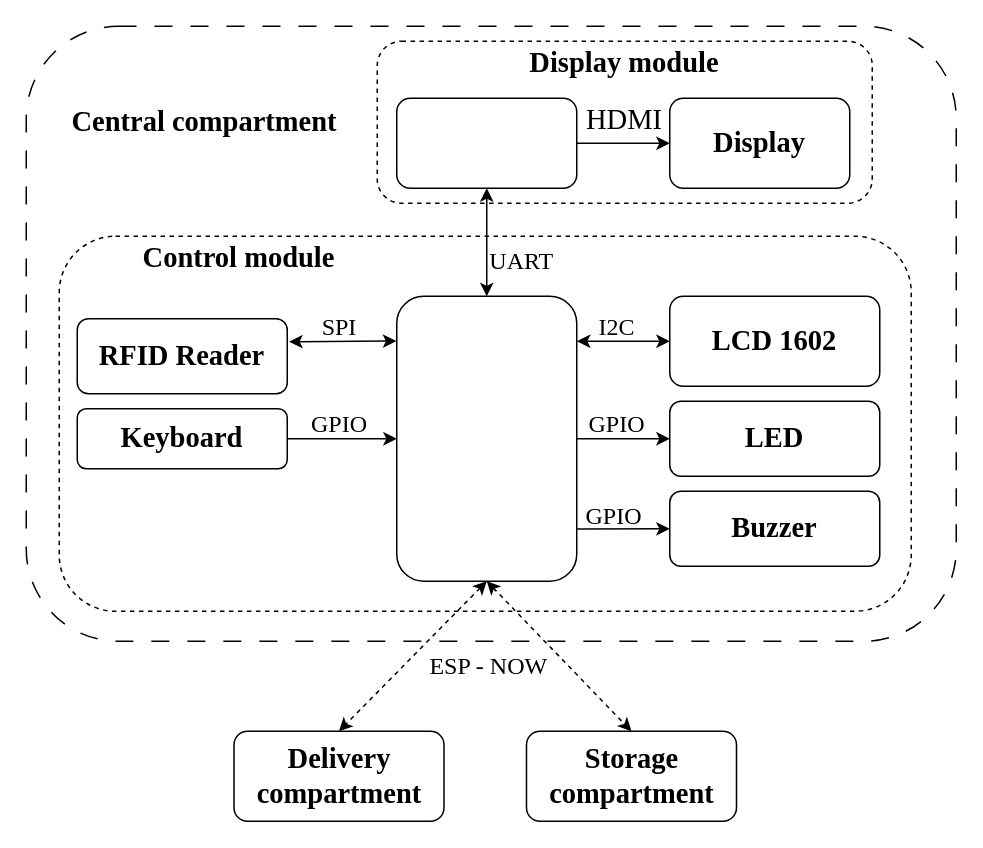
This 983x848 diagram has some shape labels left out. Each missing label, with the centre of its shape:
ESP32: point (486, 438)
MiniPC: point (486, 142)
